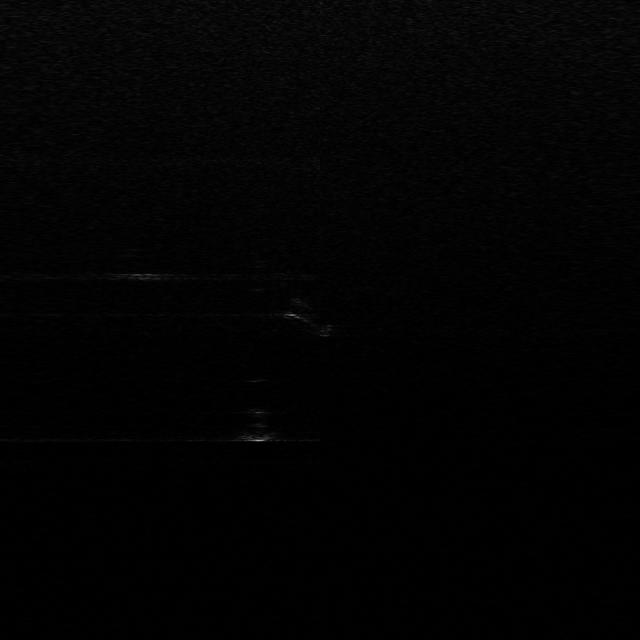ball: (227, 407, 284, 442)
tyre: (277, 297, 338, 336)
